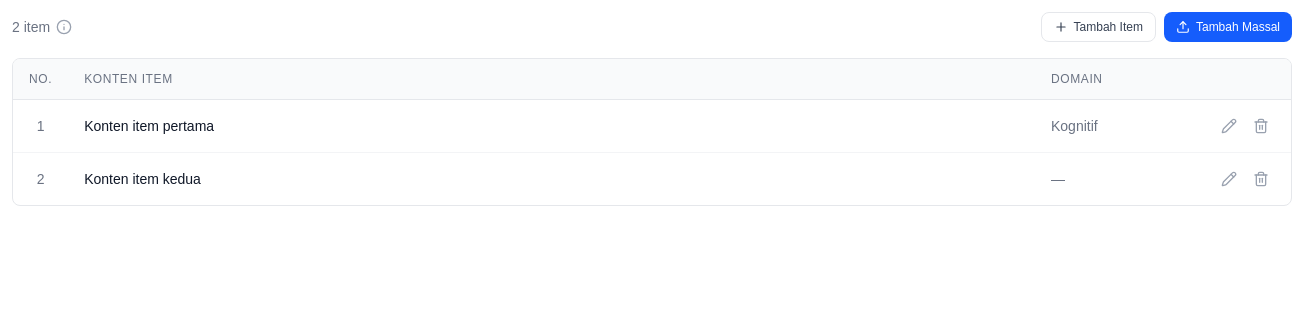
Test: ItemsManager › harus menampilkan error jika konten edit kosong
This screenshot has width=1304, height=334.
Click the button titled "Edit" in the row of "Konten item pertama" at (1229, 126), box [1215, 112, 1243, 140]
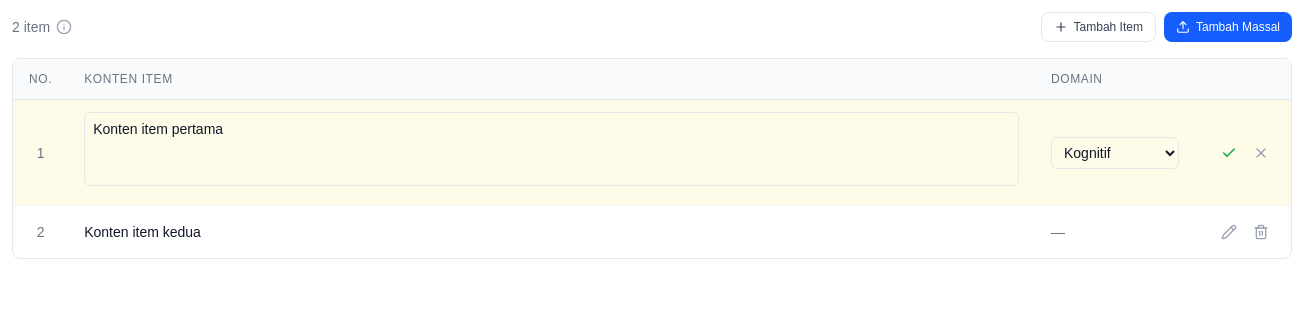
Clear the text box showing "Konten item pertama" at (552, 149), box [84, 112, 1019, 186]
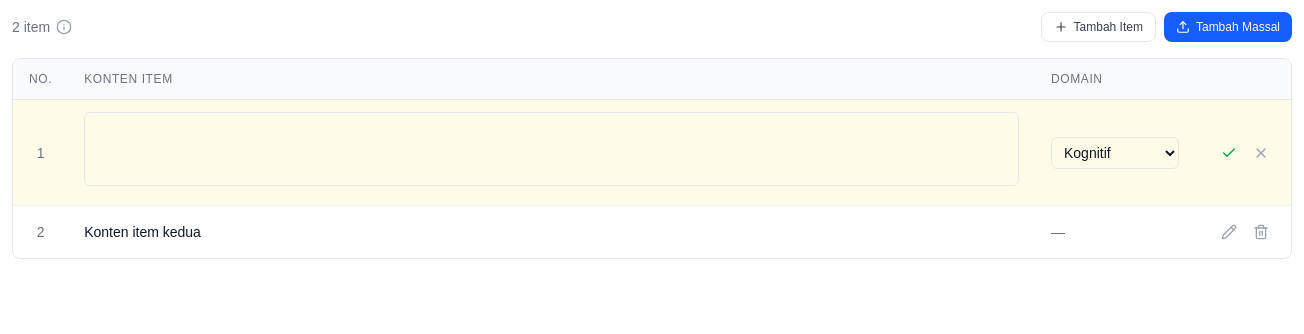
Click the button titled "Simpan" at (1229, 152), box [1215, 138, 1243, 166]
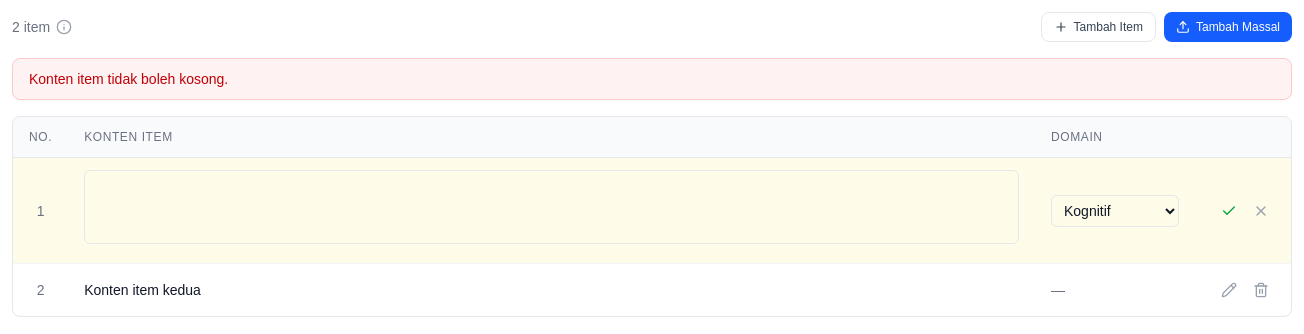
Expected: the text "Konten item tidak boleh kosong." is shown, [12, 58, 1292, 100]
